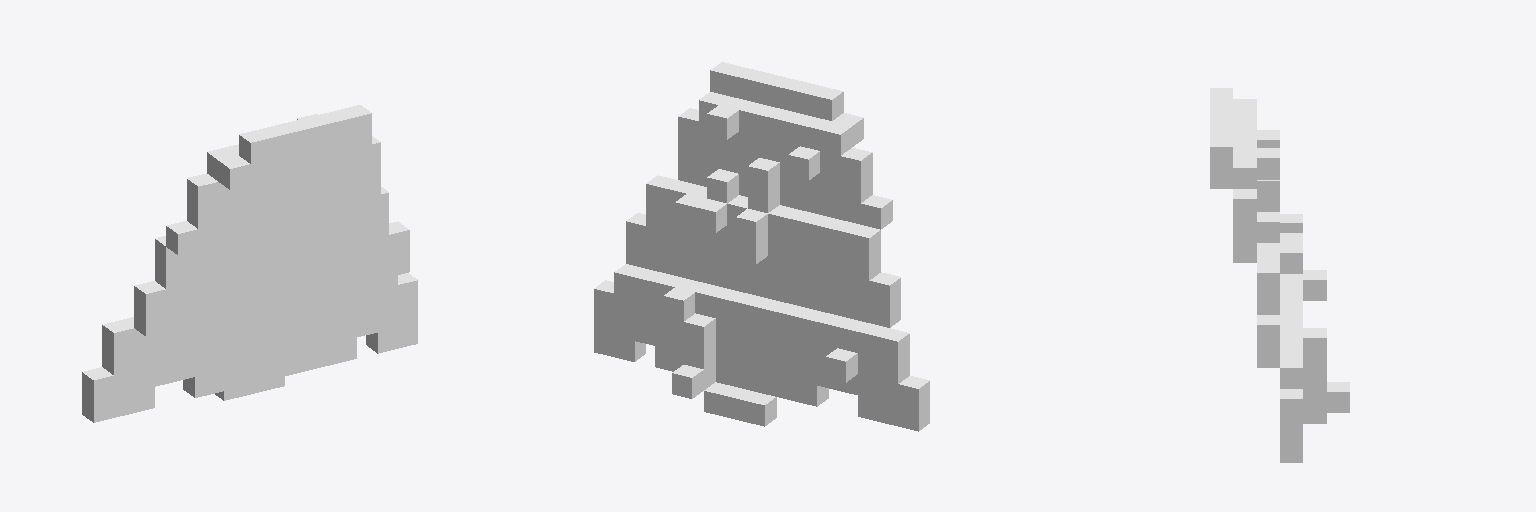
File: pidgeotto-1.obj
3 views of the same model, side by side, from view 1: azimuth 30°, elevation 25°; view 2: azimuth 150°, elevation 25°; view 3: azimuth 270°, elevation 25° (orthographic).
Visible parts, largest first — view 1: object 1; view 2: object 1; view 3: object 1.
Boxes of the visible parts, box(x1,y1,x2,y2) form: object 1: box(82, 105, 417, 422); object 1: box(594, 62, 929, 431); object 1: box(1210, 88, 1349, 462).
Size of the model in its own units: 1.6 by 1.4 by 0.6.